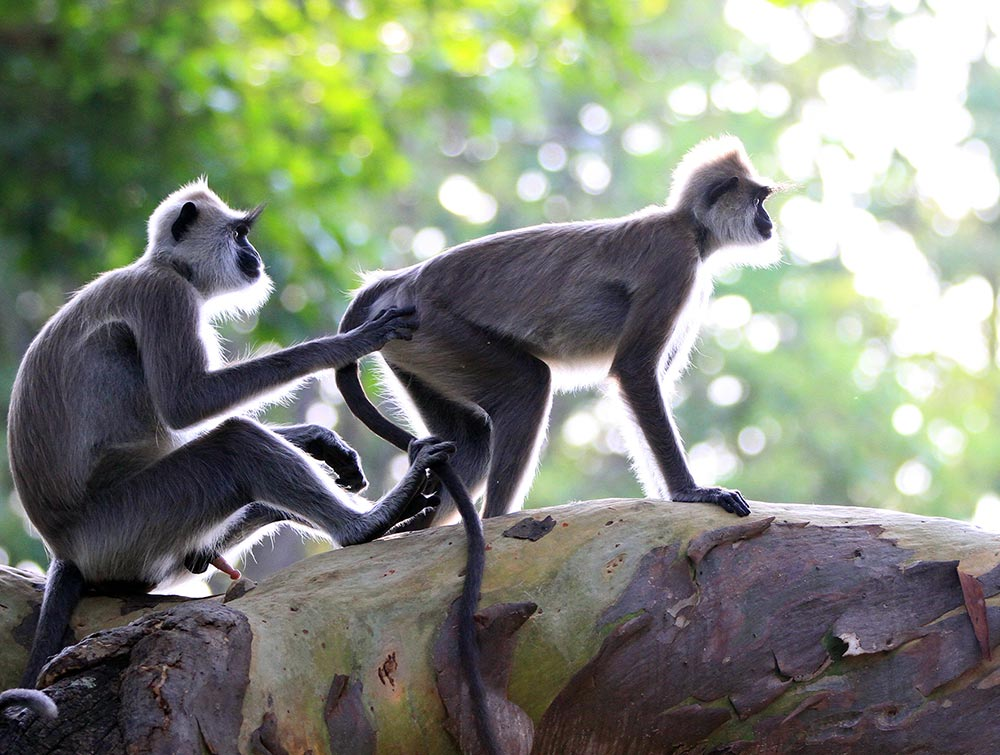Monkey: (330, 103, 815, 582), (1, 131, 370, 690)
